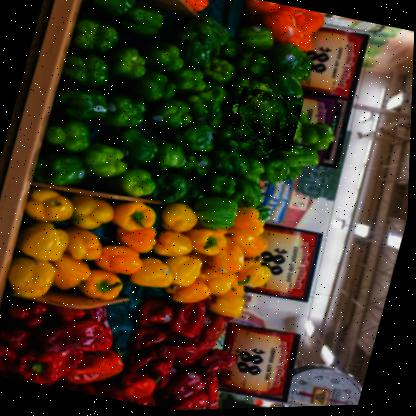capsicum: (226, 84, 305, 154)
